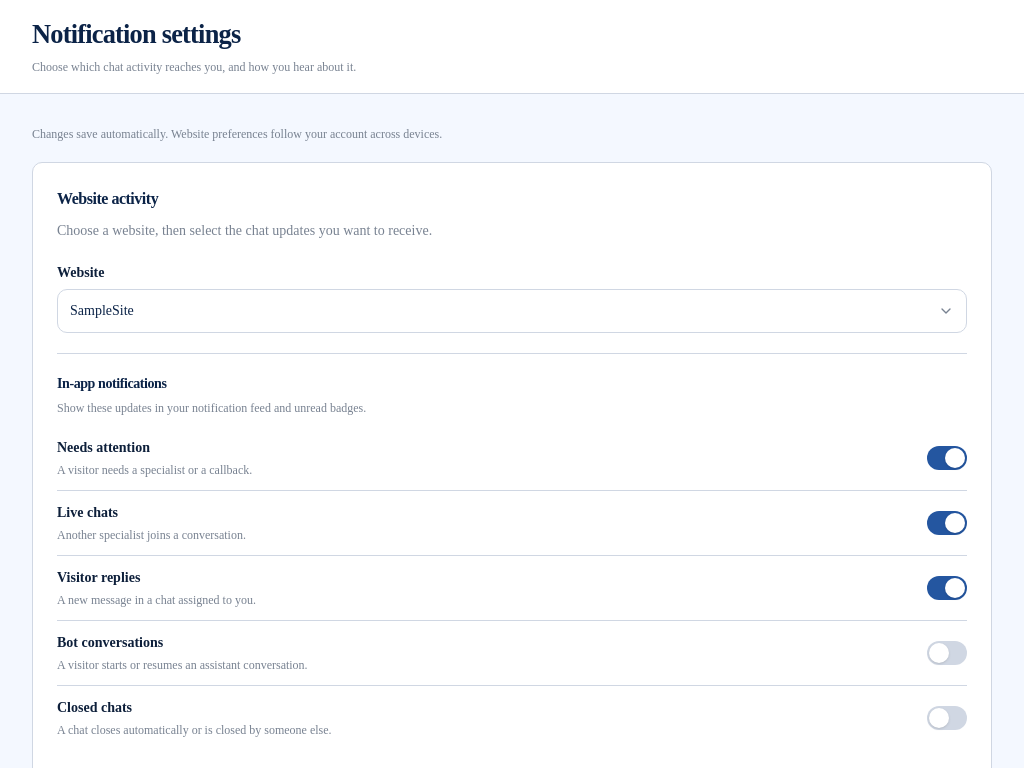
Test case: the site dropdown shows one site's preferences at a time
expect the switch named "Live chats for SampleSite" in the row of "Another specialist joins a conversation." is checked: met, box [927, 511, 967, 535]
expect the switch labelled "Live chats for Careers" is not shown: met
Click the dropdown named "Website".
click(102, 310)  # box [57, 289, 967, 333]
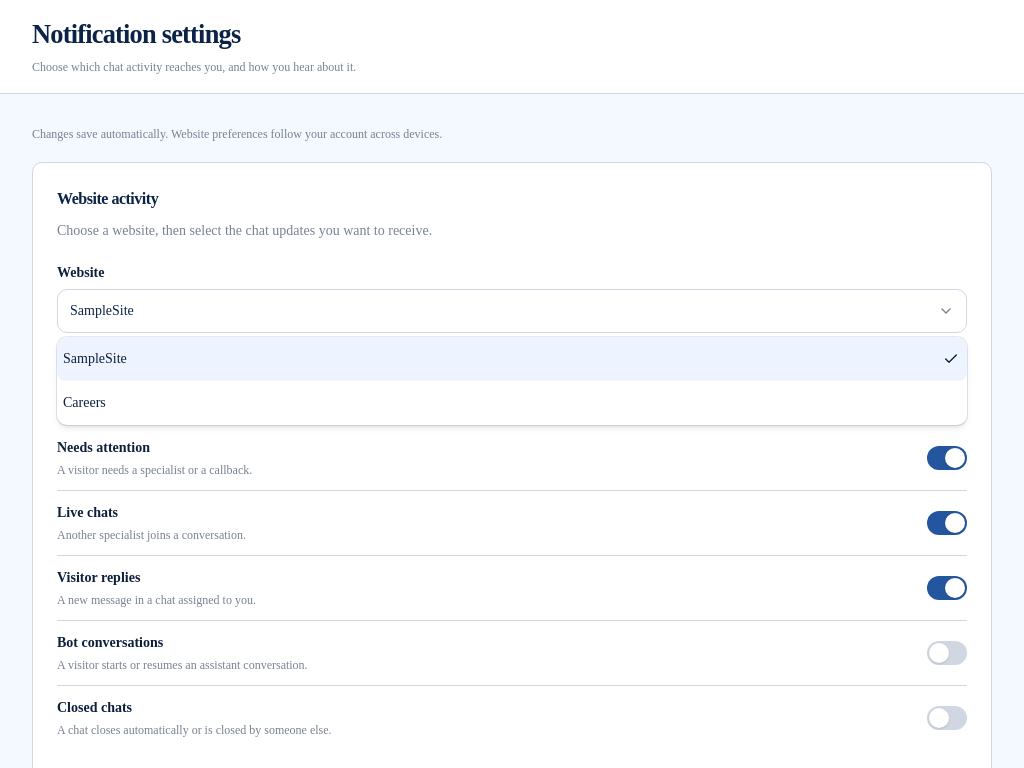
Click the option "Careers".
click(84, 402)  # box [63, 395, 106, 410]
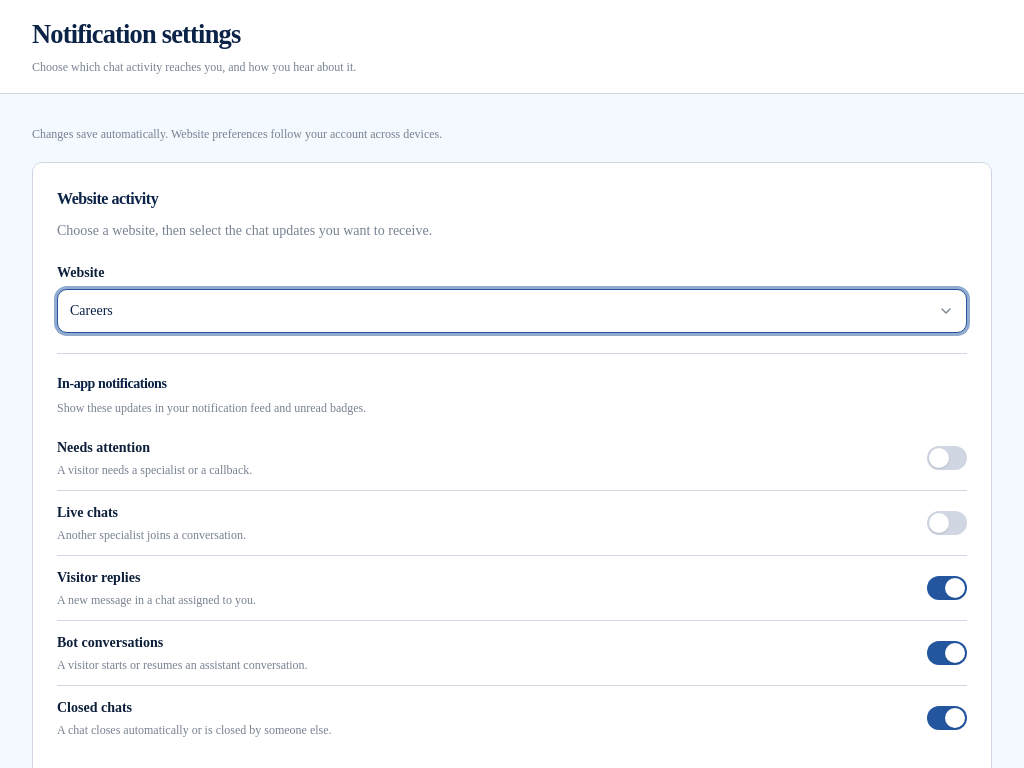
expect the switch labelled "Live chats for SampleSite" is not shown: met
expect the dropdown named "Website" shows "Careers": met, box [57, 289, 967, 333]
expect the switch named "Live chats for Careers" in the row of "Another specialist joins a conversation." is not checked: met, box [927, 511, 967, 535]
